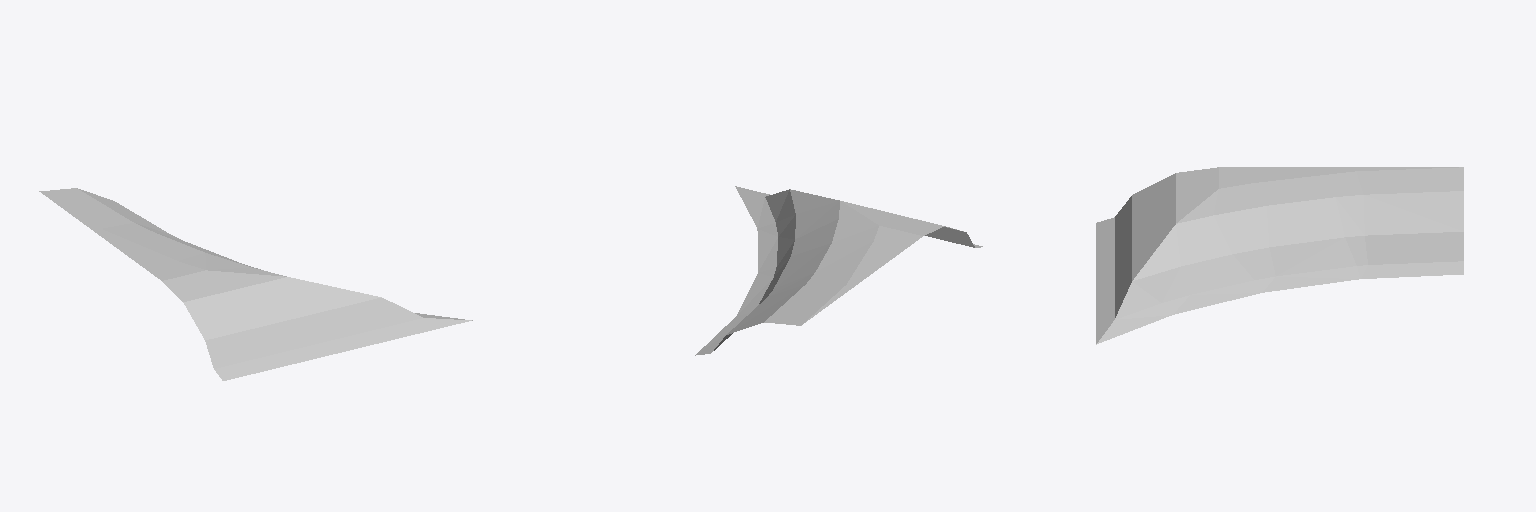
File: Track_Normal_Curve_Y_5x5.obj
The picture shows the model from 3 angles: view 1: azimuth 30°, elevation 25°; view 2: azimuth 150°, elevation 25°; view 3: azimuth 270°, elevation 25°; orthographic projection.
Visible parts, largest first — view 1: object1; view 2: object1; view 3: object1.
Part boxes in pixels (left/top/right/bottom): object1: left=39, top=188, right=472, bottom=380; object1: left=695, top=186, right=982, bottom=355; object1: left=1096, top=167, right=1463, bottom=344.
Bounding box in the file's own units: 2.35 × 0.5 × 3.